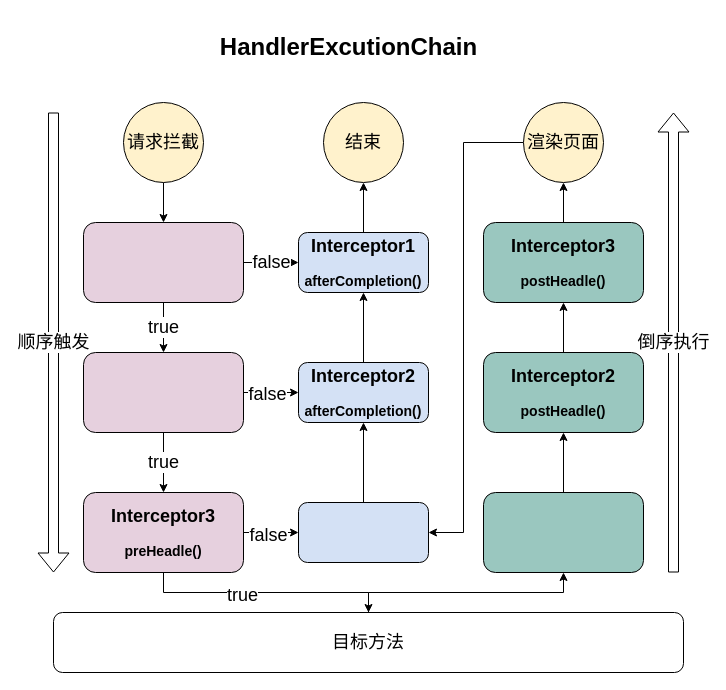
This 726x690 diagram has some shape labels left out. Each missing label, with the centre of its shape:
Interceptor1 postHeadle(): point (563, 532)
Interceptor1 preHeadle(): point (163, 262)
Interceptor2 preHeadle(): point (163, 392)
Interceptor3 afterCompletion(): point (363, 532)
